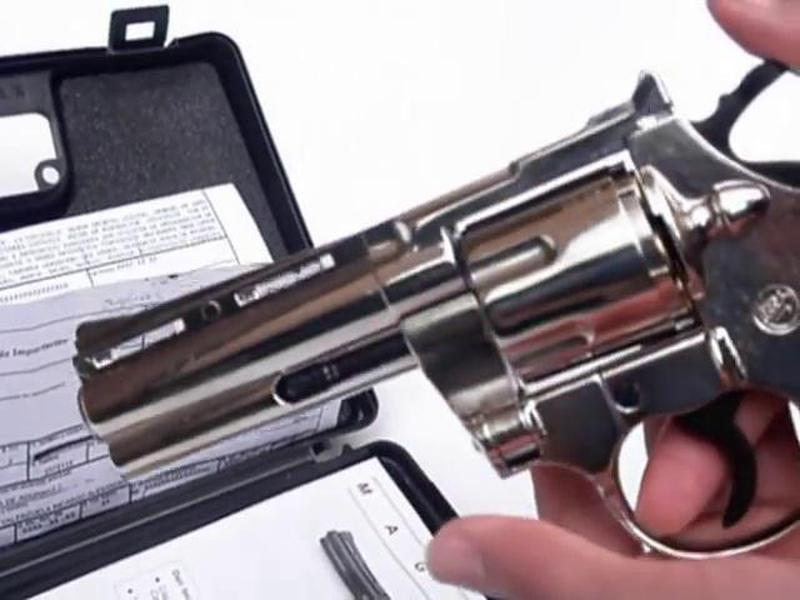Revolver: (64, 83, 799, 544)
